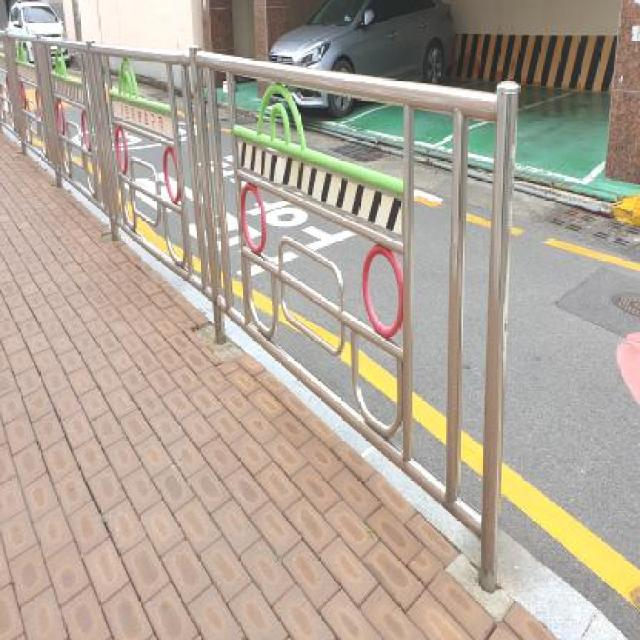fence: (152, 36, 546, 541), (36, 25, 270, 299)
